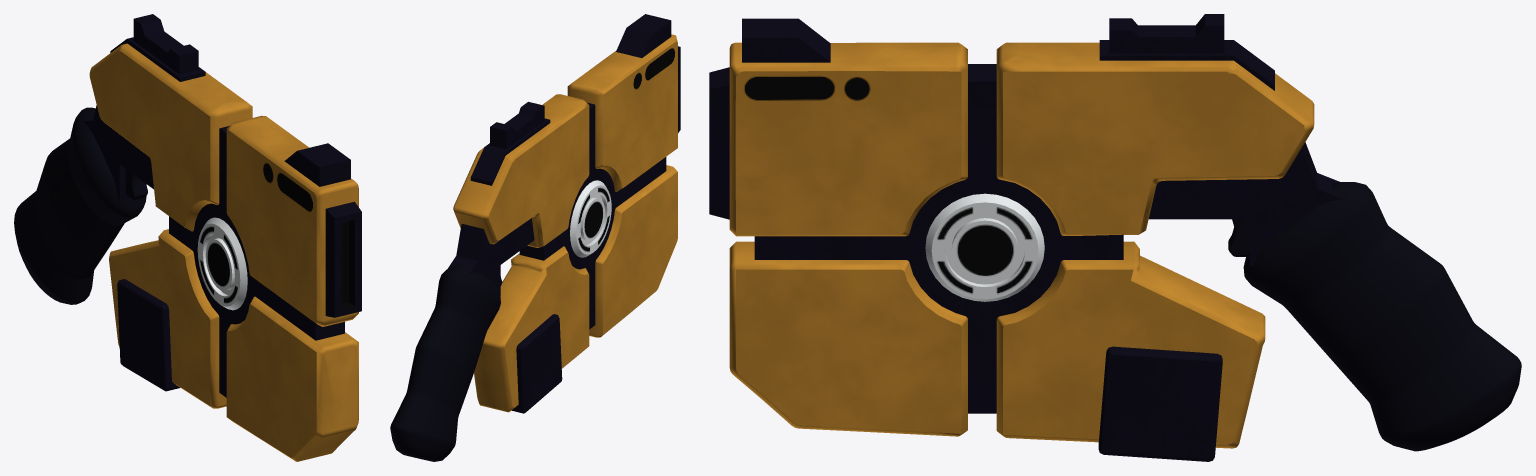
File: SM_PistolArnold.fbx
3 views of the same model, side by side, from view 1: azimuth 30°, elevation 25°; view 2: azimuth 150°, elevation 25°; view 3: azimuth 270°, elevation 25° (orthographic). The views are drawn at different scales.
Parts seen in each view (by area): view 1: GameRes4; view 2: GameRes4; view 3: GameRes4.
Boxes of the visible parts, left/top/right/bottom form: GameRes4: left=14, top=14, right=361, bottom=461; GameRes4: left=390, top=14, right=680, bottom=461; GameRes4: left=709, top=14, right=1521, bottom=461.
Bounding box in the file's own units: 4.28 × 24.82 × 42.63.
1 material, 1 textured.
